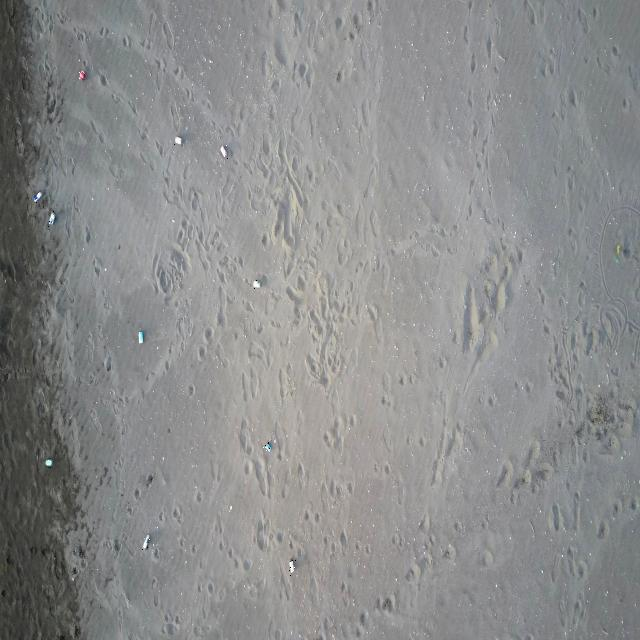tin-and-aluminum-cans: (287, 556, 296, 576), (219, 143, 229, 160), (32, 189, 43, 203), (142, 532, 150, 551), (263, 440, 273, 455), (47, 212, 56, 228), (252, 277, 262, 291), (174, 134, 184, 147), (138, 327, 144, 347), (78, 70, 86, 84), (45, 456, 53, 470)
